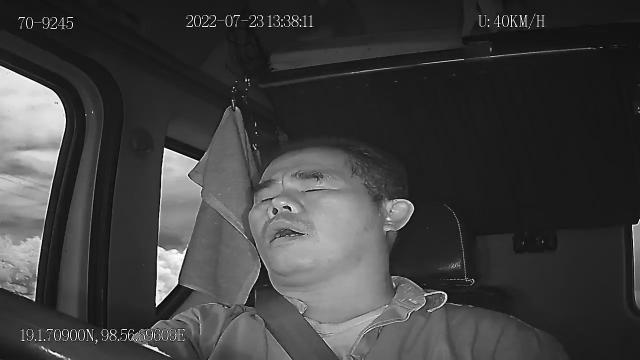SafeDriving: (288, 159, 346, 192)
Seatbelt: (253, 286, 341, 360)
